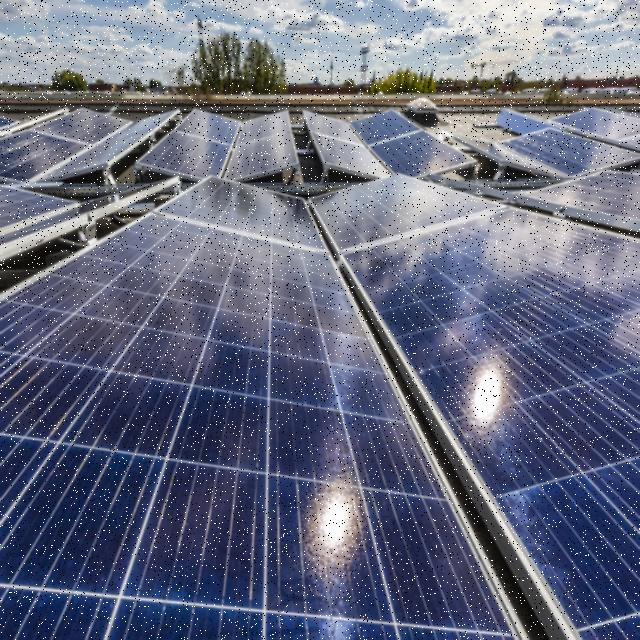clean: (308, 179, 636, 631)
